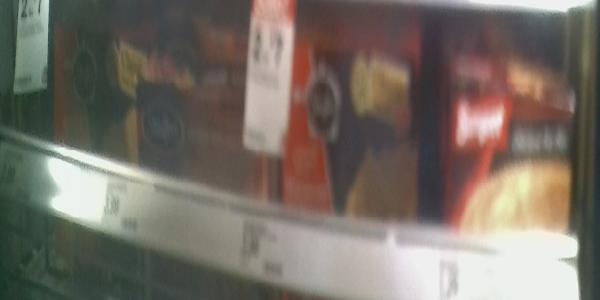pizza1: (94, 34, 270, 204), (278, 22, 428, 220), (438, 22, 573, 233)
